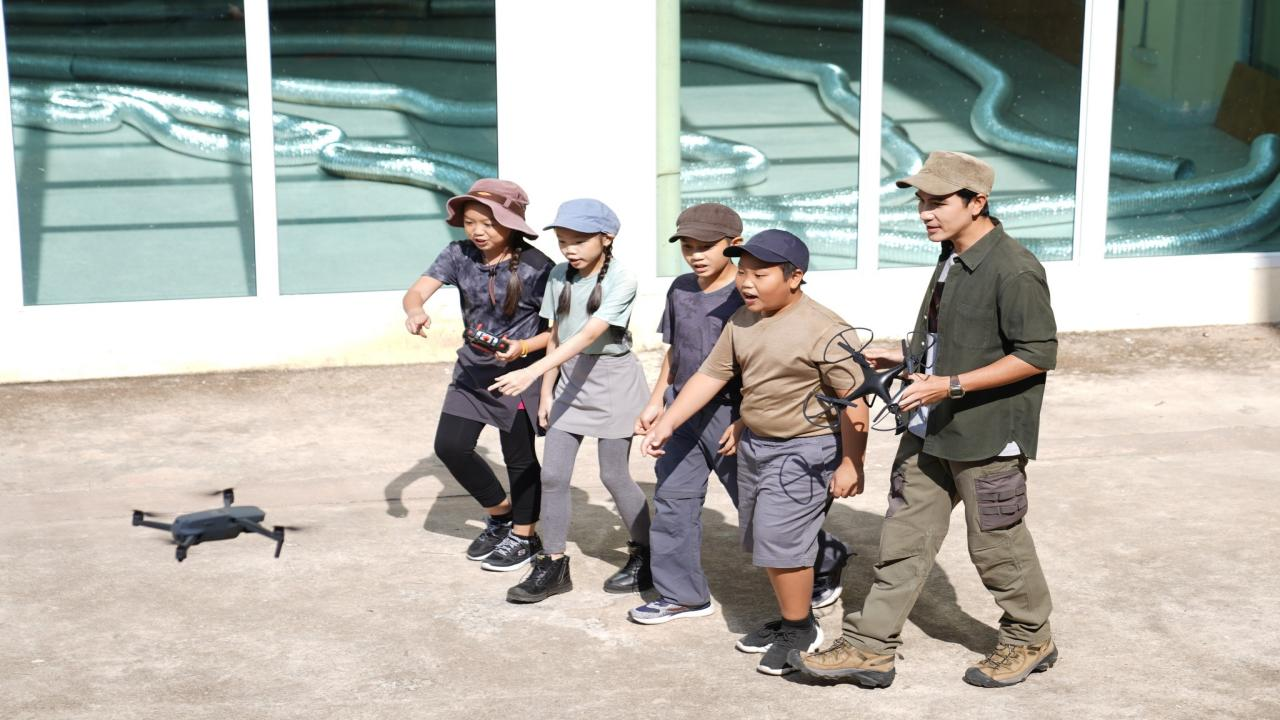Drone: (114, 473, 338, 575)
